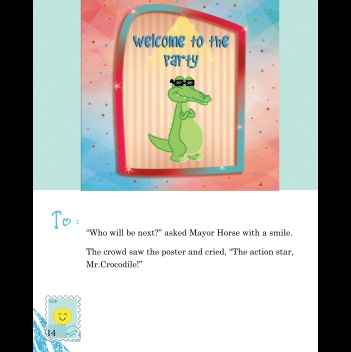latin: (82, 224, 292, 239), (83, 244, 293, 257), (84, 258, 143, 268)
